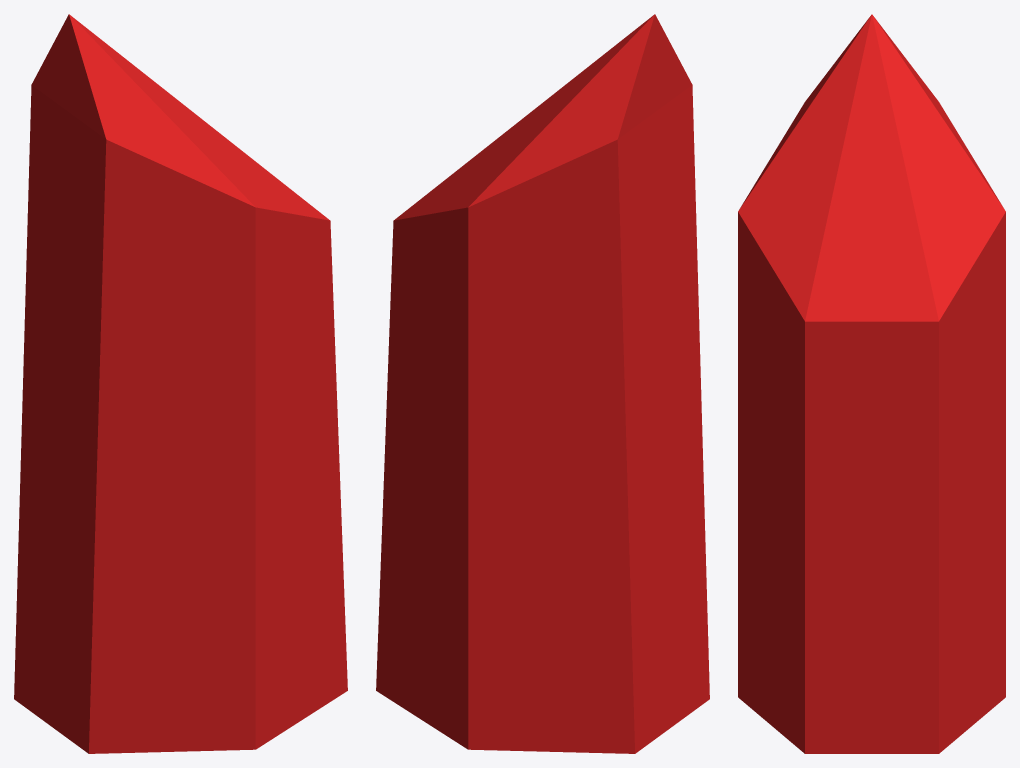
File: cristal-4-1.fbx
3 views of the same model, side by side, from view 1: azimuth 30°, elevation 25°; view 2: azimuth 150°, elevation 25°; view 3: azimuth 270°, elevation 25° (orthographic). The views are drawn at different scales.
Parts seen in each view (by area): view 1: Cylinder.818; view 2: Cylinder.818; view 3: Cylinder.818.
Boxes of the visible parts, left/top/right/bottom form: Cylinder.818: left=14, top=14, right=347, bottom=753; Cylinder.818: left=376, top=14, right=709, bottom=753; Cylinder.818: left=738, top=14, right=1005, bottom=753.
Bounding box in the file's own units: 10 × 26.12 × 10.
